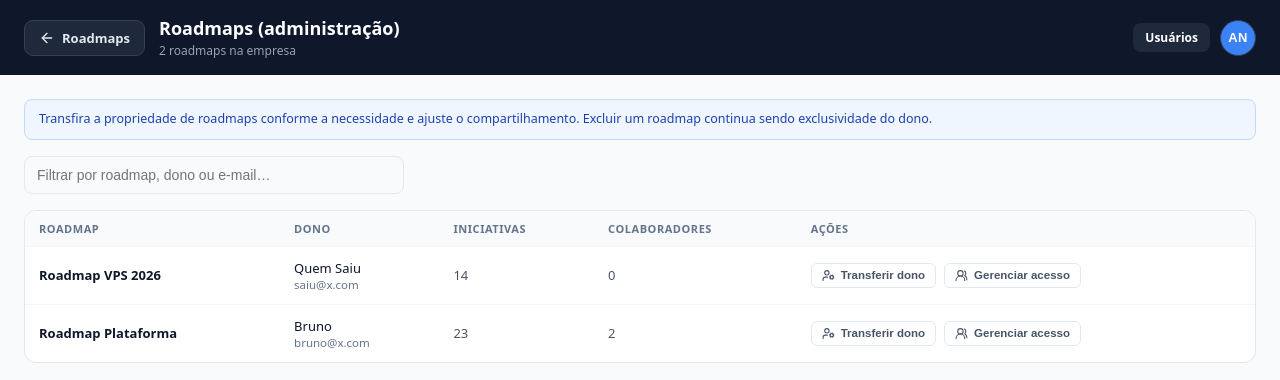
Test case: AdminRoadmaps › filtra por dono
Expected: the text "Roadmap VPS 2026" is shown, [39,266,161,284]
Type "bruno" into the field named "filtrar roadmaps" at {"x": 214, "y": 175}, box [24,156,404,194]
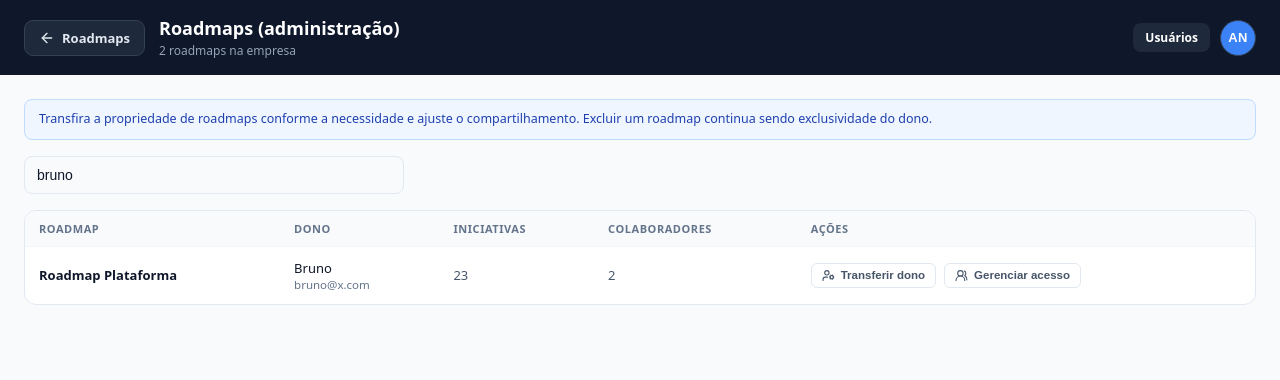
Expected: the text "Roadmap Plataforma" is shown, [39,266,177,284]
Expected: the text "Roadmap VPS 2026" is gone
